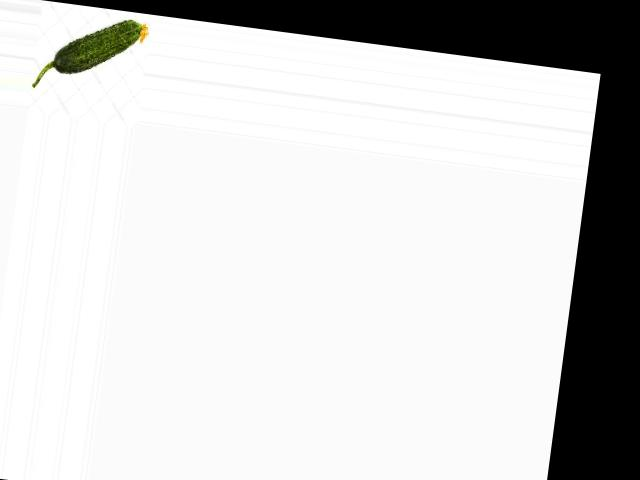cucumber: (32, 7, 151, 101)
